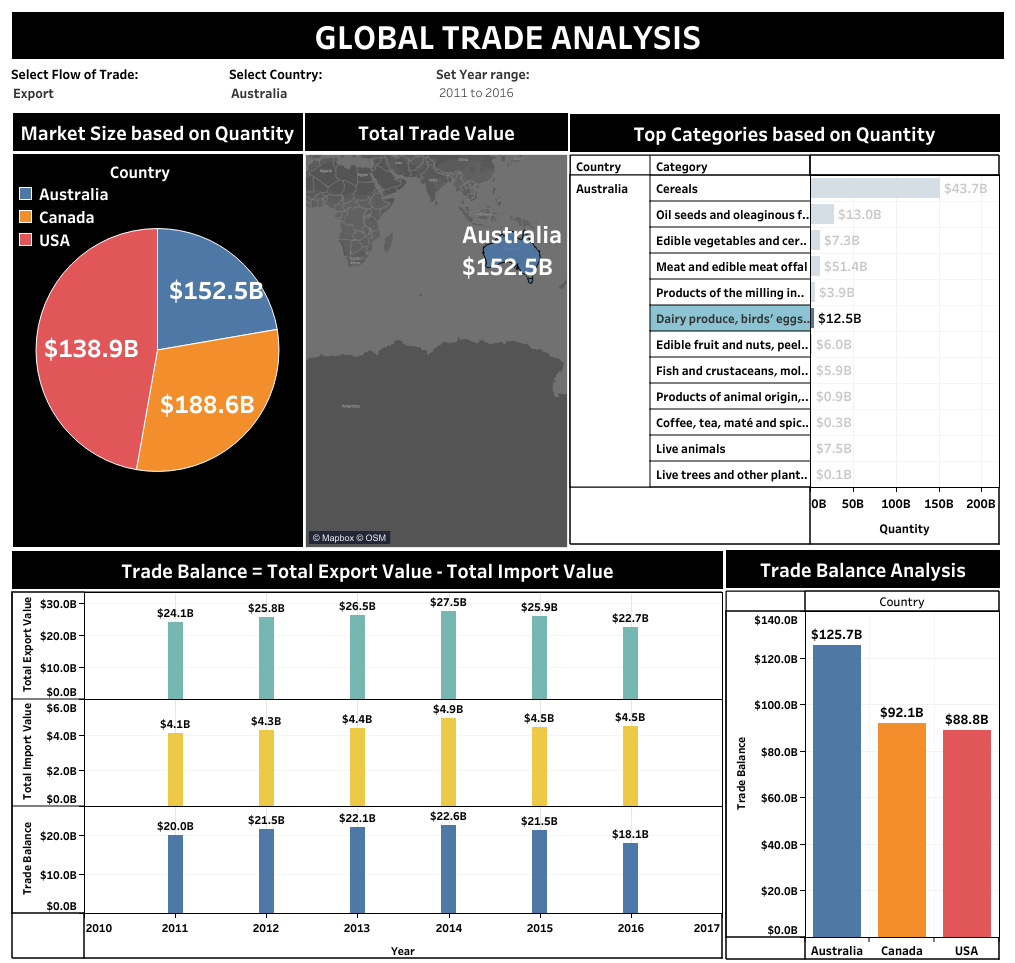

This screenshot's page, from the dashboard's own definition file:
{"tool":"tableau","page":{"name":"GLOBAL TRADE ANALYSIS - 1 ","canvas":[1016,964],"ordinal":0},"visuals":[{"type":"title","box":[8,8,1000,55]},{"type":"filter","title":"Total Trade Value ","param":"[federated.1bxhuul1wvcy0012xsuoj0f1pn9y].[none:Flow:nk]","box":[11,63,215,51]},{"type":"filter","title":"Total Trade Value ","param":"[federated.1bxhuul1wvcy0012xsuoj0f1pn9y].[none:Country:nk]","box":[229,63,202,45]},{"type":"filter","title":"Trade Balance","param":"[federated.1bxhuul1wvcy0012xsuoj0f1pn9y].[none:Year:qk]","box":[436,63,565,49]},{"type":"worksheet","title":"Market Size","mark":"Pie","box":[13,113,320,434]},{"type":"worksheet","title":"Total Trade Value ","mark":"Multipolygon","box":[305,113,263,435]},{"type":"worksheet","title":"Top Categories based on Quantity","mark":"Automatic","rows":["Country","Category"],"cols":["Quantity"],"box":[570,114,430,438]},{"type":"legend","title":"Market Size","param":"[federated.1bxhuul1wvcy0012xsuoj0f1pn9y].[none:Country:nk]","box":[14,158,250,119]},{"type":"worksheet","title":"Trade Balance Analysis","mark":"Automatic","rows":["Calculation_797418645337538563"],"cols":["Country"],"box":[726,550,274,410]},{"type":"worksheet","title":"Trade Balance","mark":"Bar","rows":["Flow (copy)","Flow (copy 2)","Calculation_797418645337538563"],"cols":["Year"],"box":[12,551,711,408]}]}

Visuals, with their boxes in screenshot pixels (x1, y1, x2, y2), scaled from the page's 1016x964 canvas onto the 1015x963 screenshot:
title: [left=8, top=8, right=1007, bottom=63]
"Total Trade Value " filter: [left=11, top=63, right=226, bottom=114]
"Total Trade Value " filter: [left=229, top=63, right=431, bottom=108]
"Trade Balance" filter: [left=436, top=63, right=1000, bottom=112]
"Market Size" worksheet (Pie marks): [left=13, top=113, right=333, bottom=546]
"Total Trade Value " worksheet (Multipolygon marks): [left=305, top=113, right=567, bottom=547]
"Top Categories based on Quantity" worksheet: [left=569, top=114, right=999, bottom=551]
"Market Size" legend: [left=14, top=158, right=264, bottom=277]
"Trade Balance Analysis" worksheet: [left=725, top=549, right=999, bottom=959]
"Trade Balance" worksheet (Bar marks): [left=12, top=550, right=722, bottom=958]
